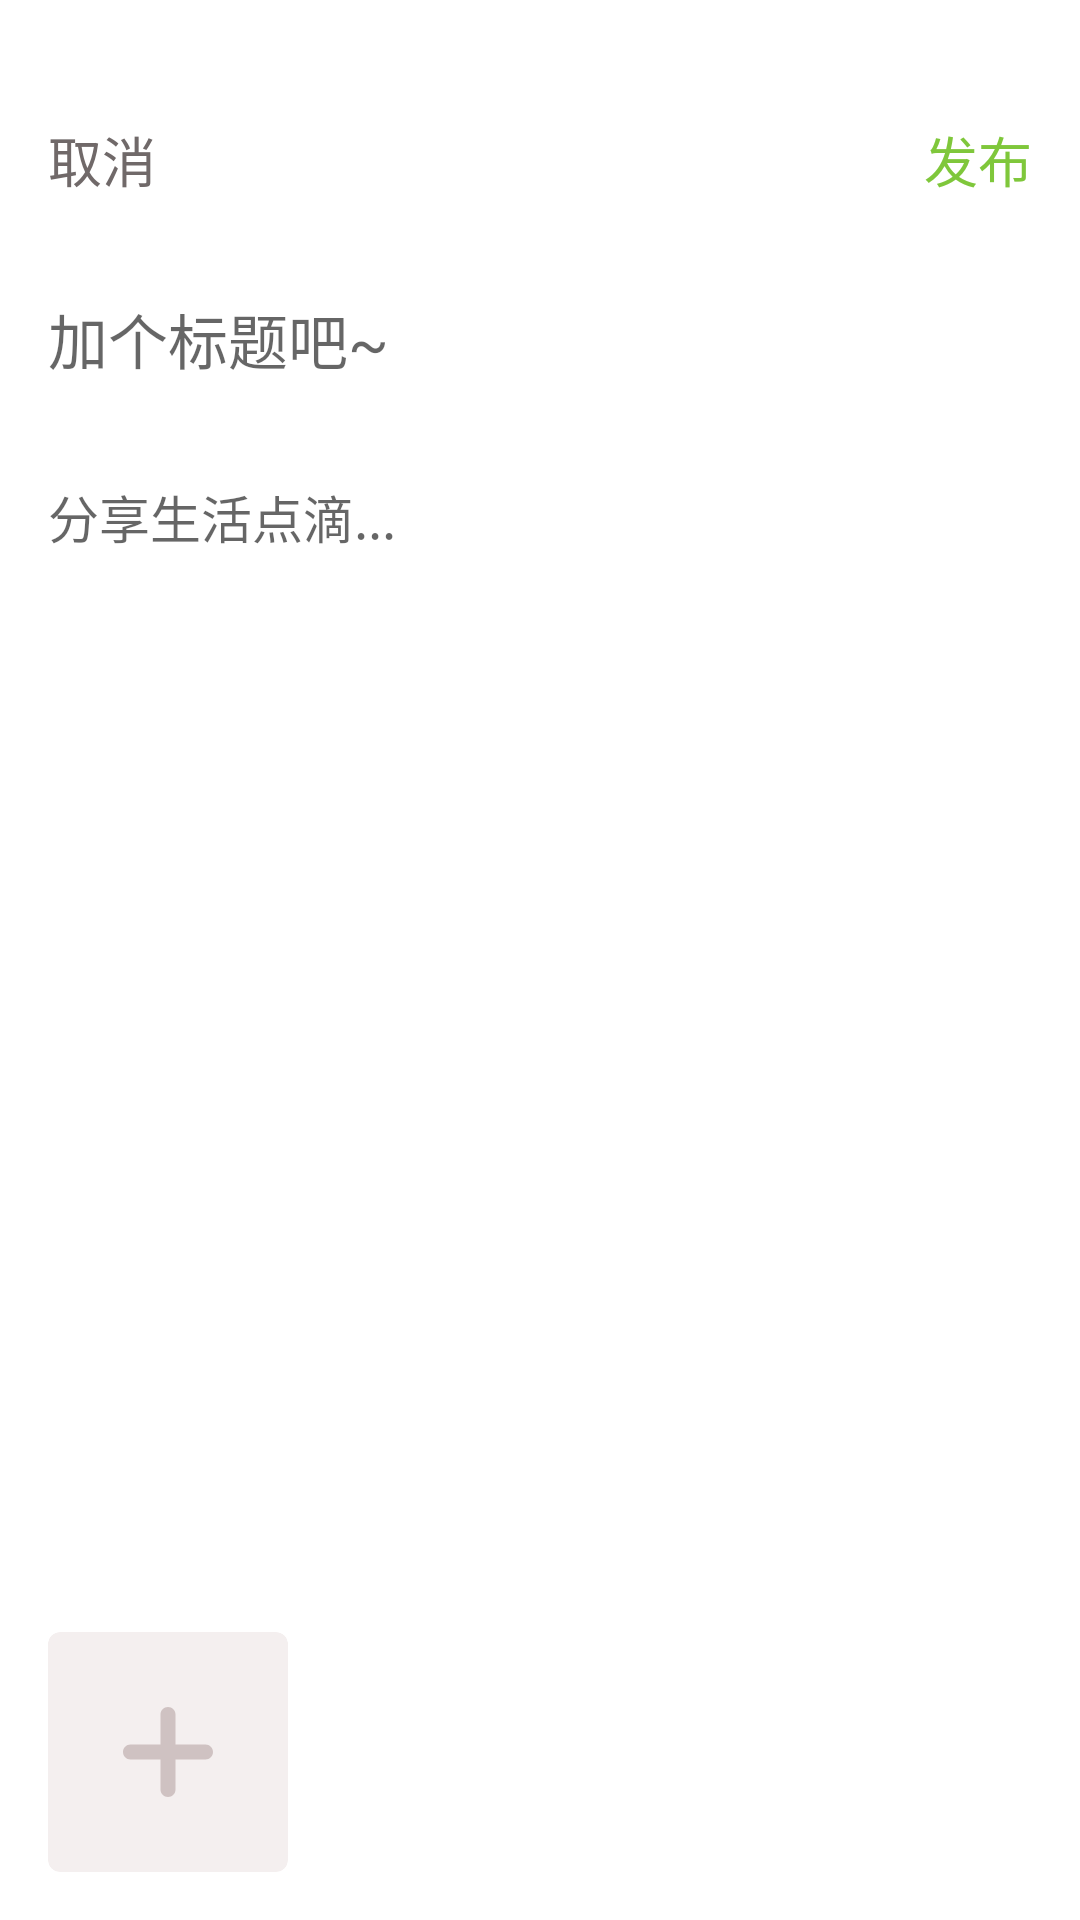

Named icons in this screenshot (1080×1920) and their bounding boxes, box=[x1, y1, x2, y2]:
plus: box=[123, 1707, 213, 1797]
